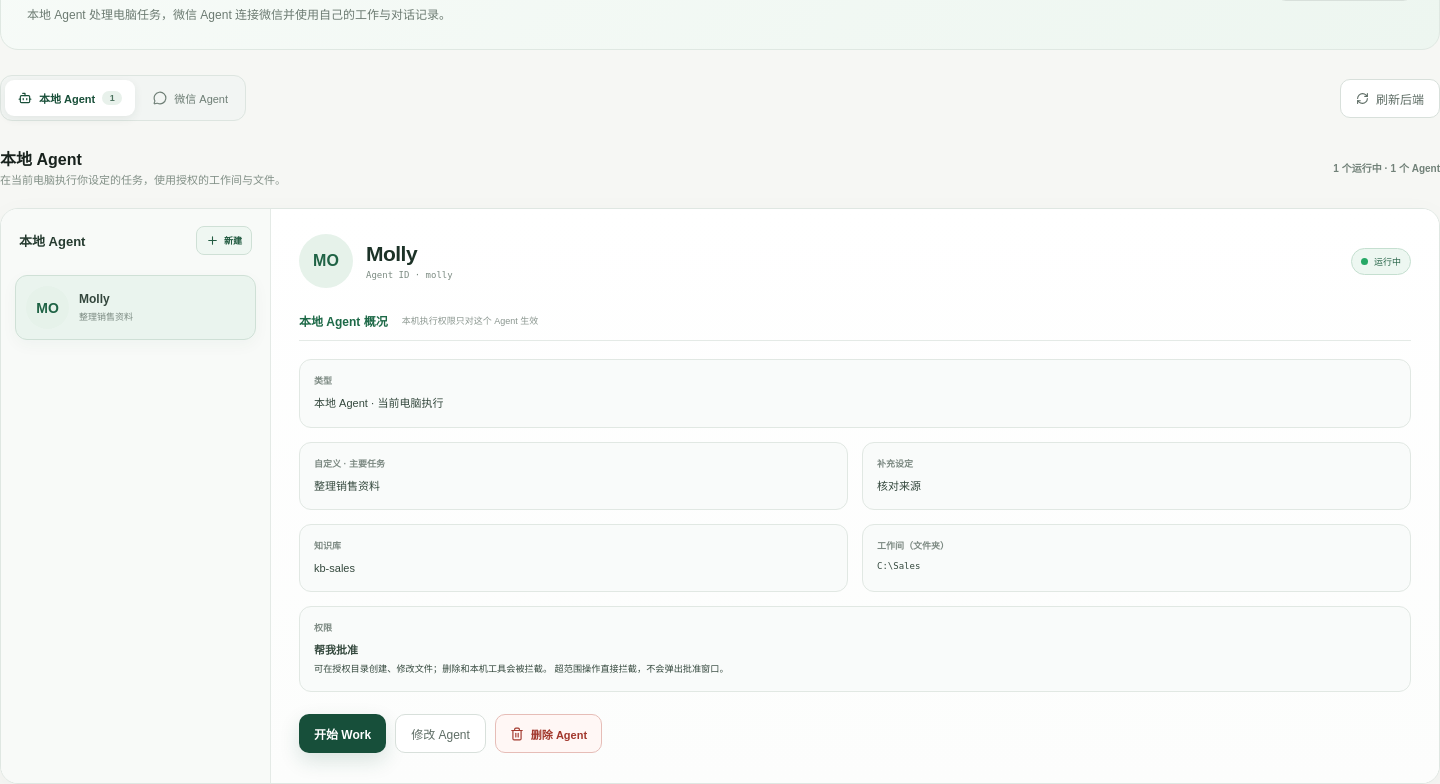
Test case: separate Local Agent and WeChat Agent management › prefills the existing local Agent settings and saves changes with PATCH
The image size is (1440, 784).
(page scrolled)
Expected: the button "MO Molly 整理销售资料" is shown, x1=15 y1=275 x2=256 y2=340
Click the button "修改 Agent" at (440, 734), box x1=395 y1=714 x2=486 y2=753
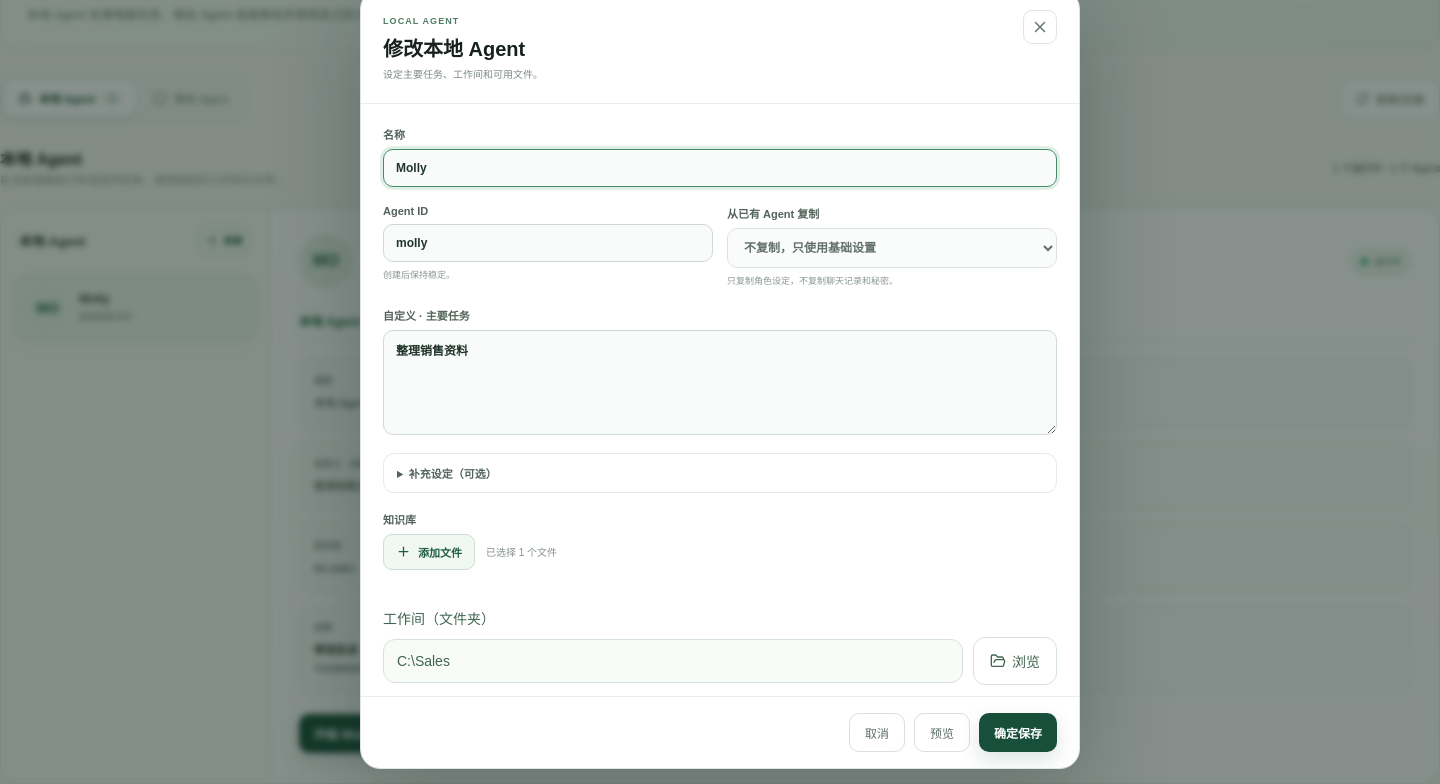
Expected: the field labelled "名称" holds "Molly"
Expected: the field labelled "Agent ID" holds "molly", x1=383 y1=224 x2=713 y2=262
Expected: the field labelled "Agent ID" is disabled, x1=383 y1=224 x2=713 y2=262
Replace the text in the field labelled "名称" with "Molly 新任务" at (720, 168), box x1=383 y1=149 x2=1057 y2=187
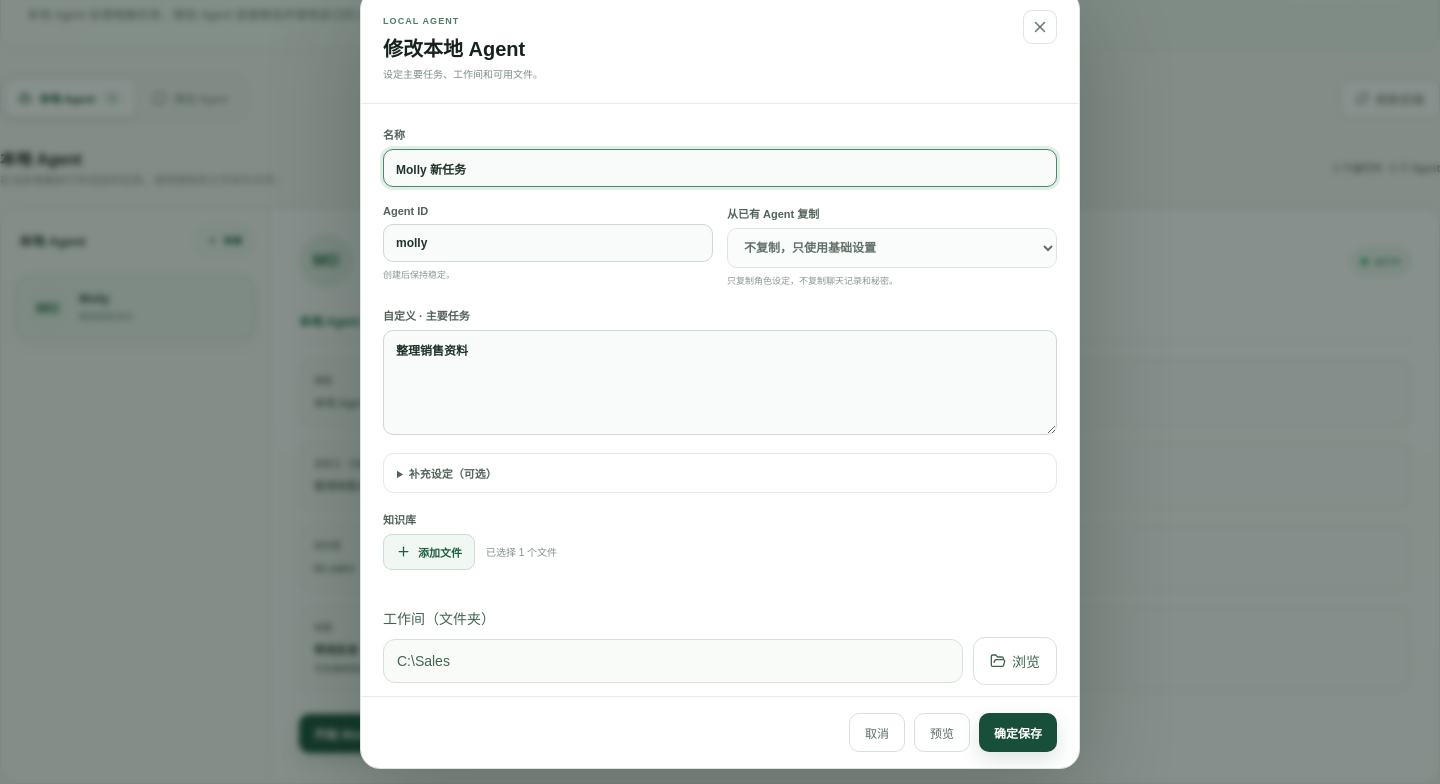
Replace the text in the text box labelled "主要任务" with "整理已确认的销售资料" at (720, 382), box x1=383 y1=330 x2=1057 y2=435
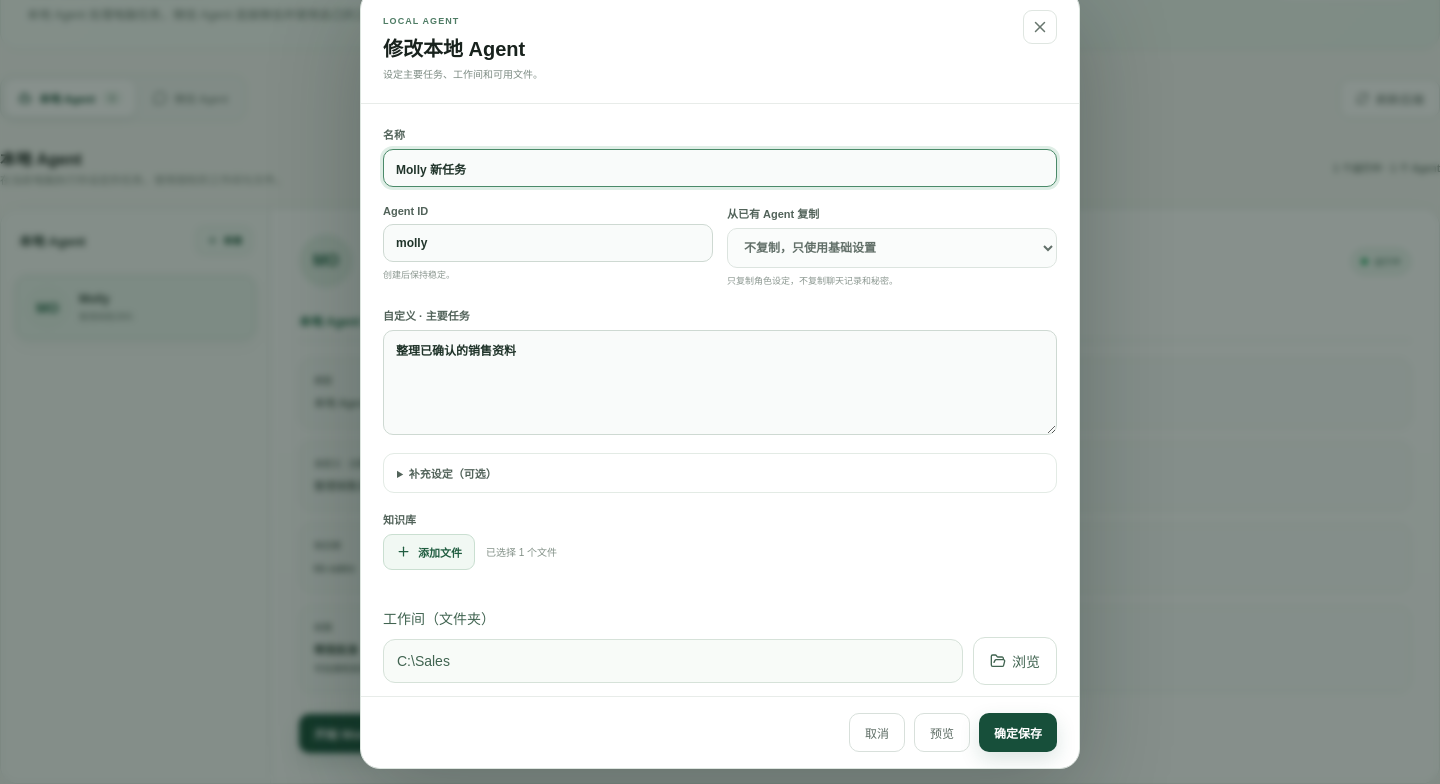
Replace the text in the field labelled "工作间（文件夹）" with "C:\\Sales\\New" at (673, 661), box x1=383 y1=639 x2=963 y2=683
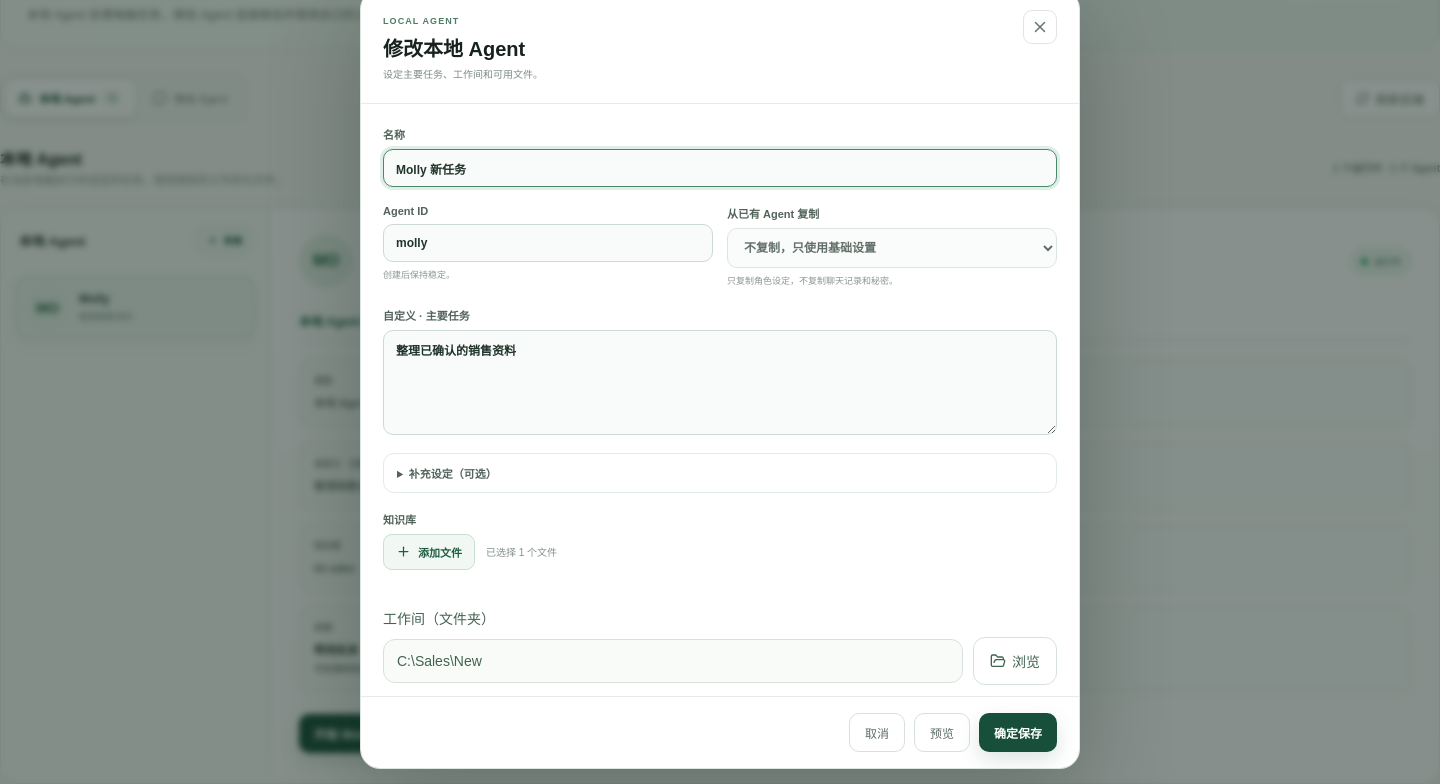
Click the button "确定保存" at (1018, 732), box x1=979 y1=713 x2=1057 y2=752
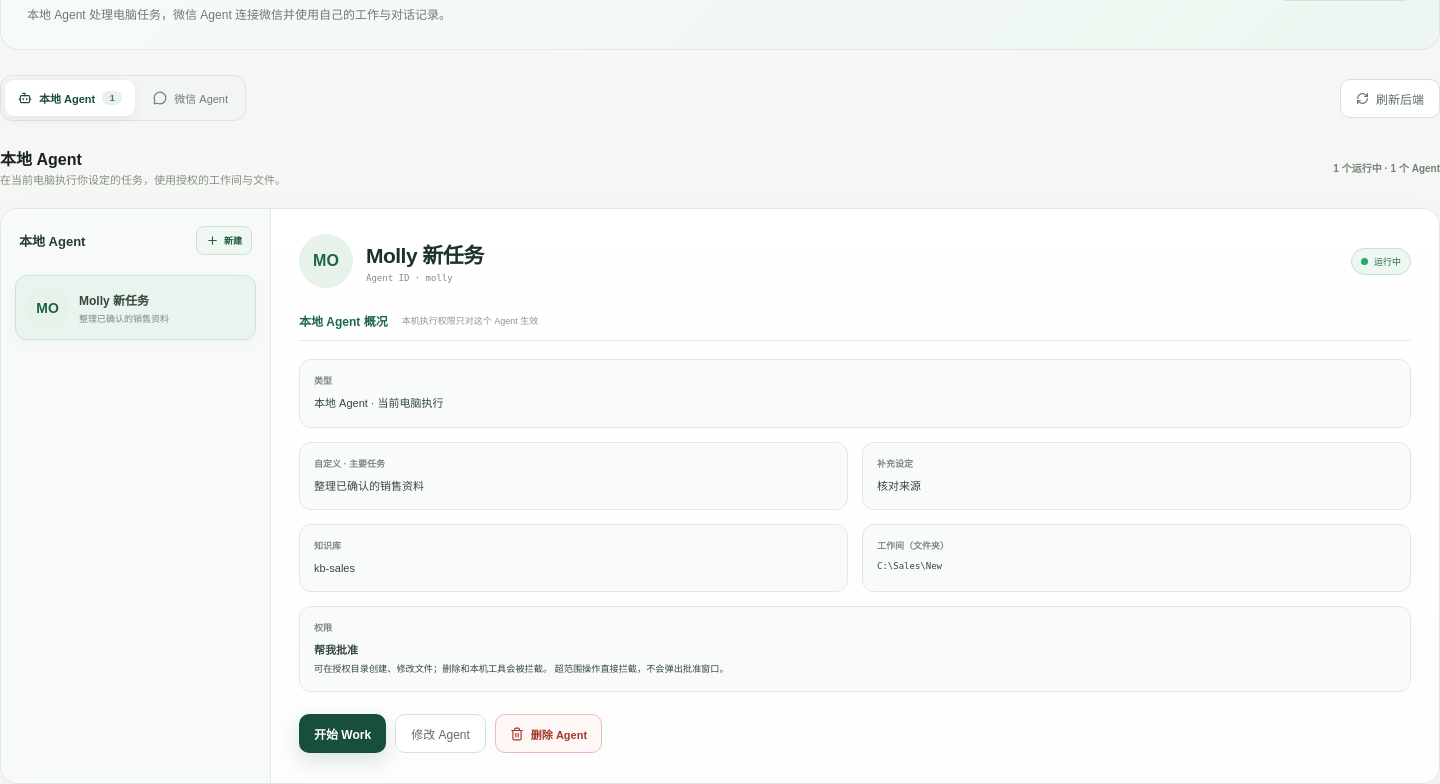
Expected: the heading "Molly 新任务" is shown, x1=366 y1=244 x2=484 y2=267
Expected: the button "MO Molly 新任务 整理已确认的销售资料" is shown, x1=15 y1=275 x2=256 y2=340
